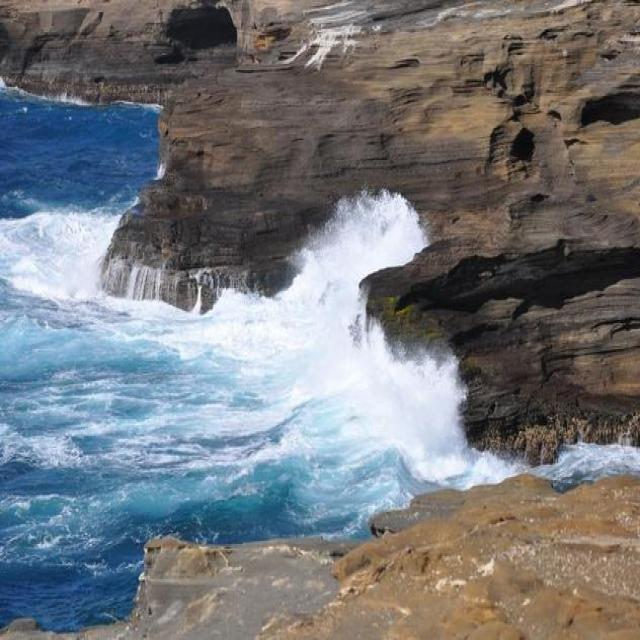reef: (124, 80, 549, 520)
